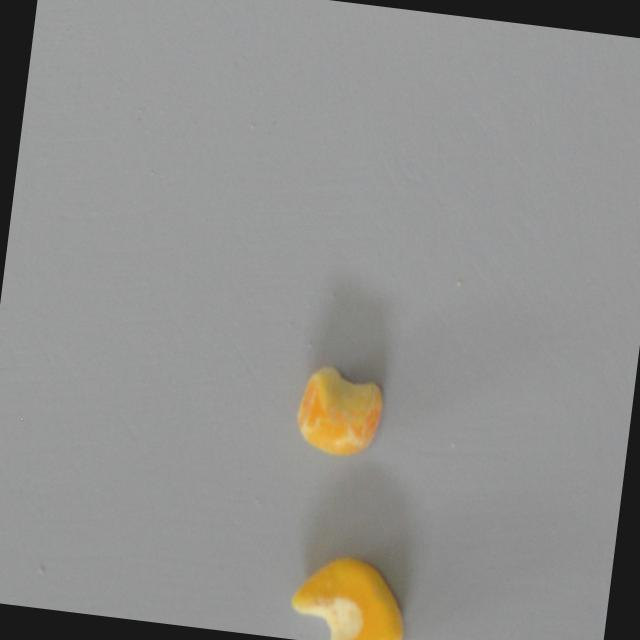no_canjicado: (284, 547, 413, 640)
pelicula: (290, 360, 387, 457)
